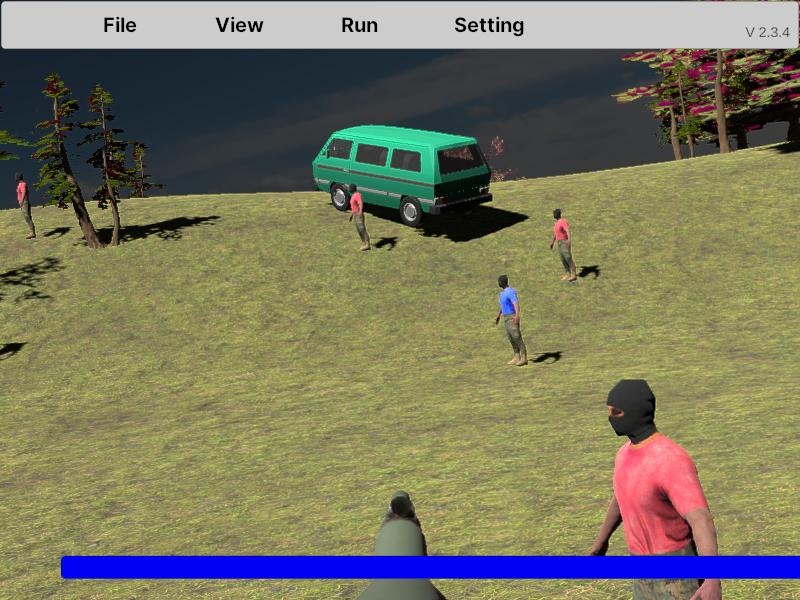Human: (589, 376, 725, 598), (496, 273, 528, 367), (551, 207, 577, 282), (349, 184, 371, 252), (16, 171, 36, 239)
car: (312, 125, 494, 228)
